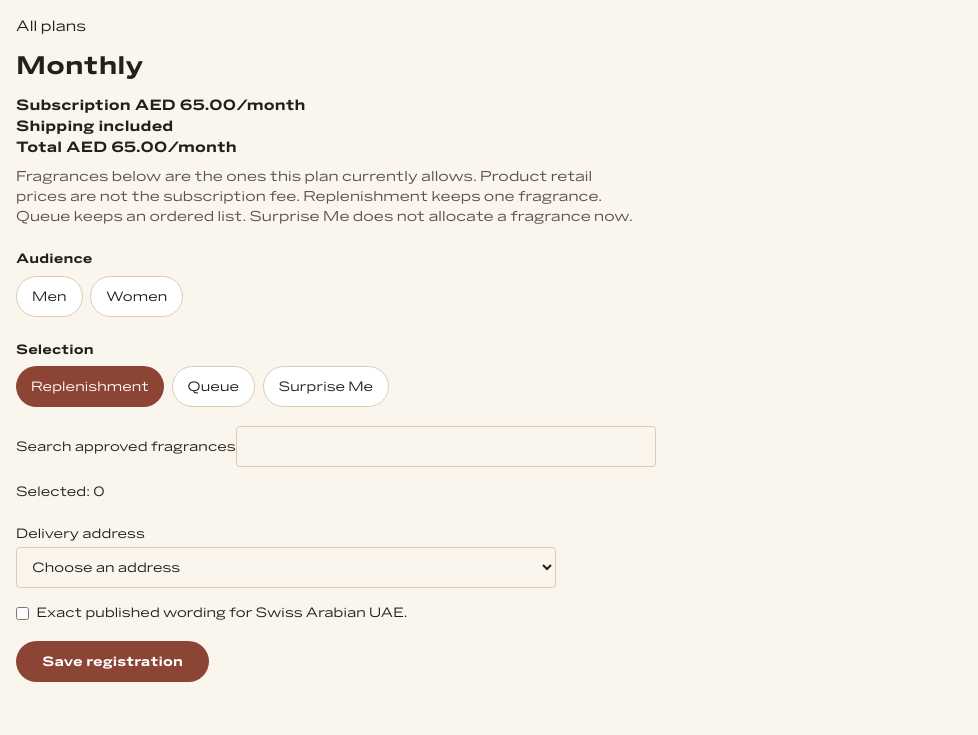
Test: account subscriptions and registration gate › shows the exact published wording and submits that version
Check: the text "Exact published wording for Swiss Arabian UAE." is shown, box [36,603,408,622]
Click the button "Men" at (49, 296), box [16,276,83,317]
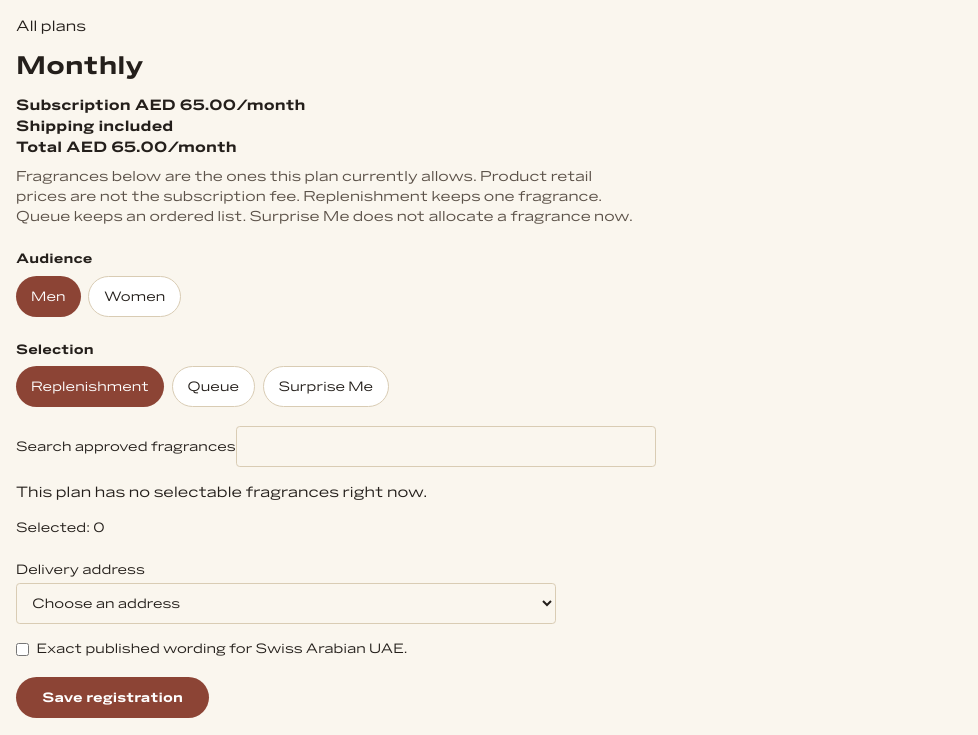
Click the button "Surprise Me" at (326, 387), box [263,366,389,407]
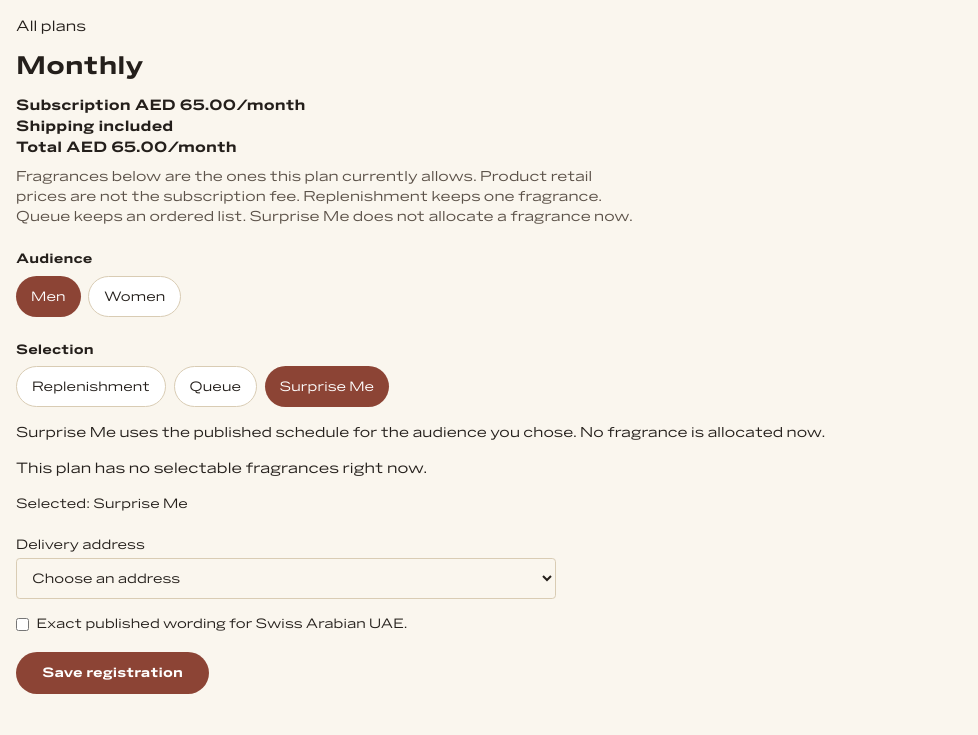
Check: the button "Save registration" is disabled, box [16,652,209,694]
Click the checkbox at (22, 625), box [16,618,29,631]
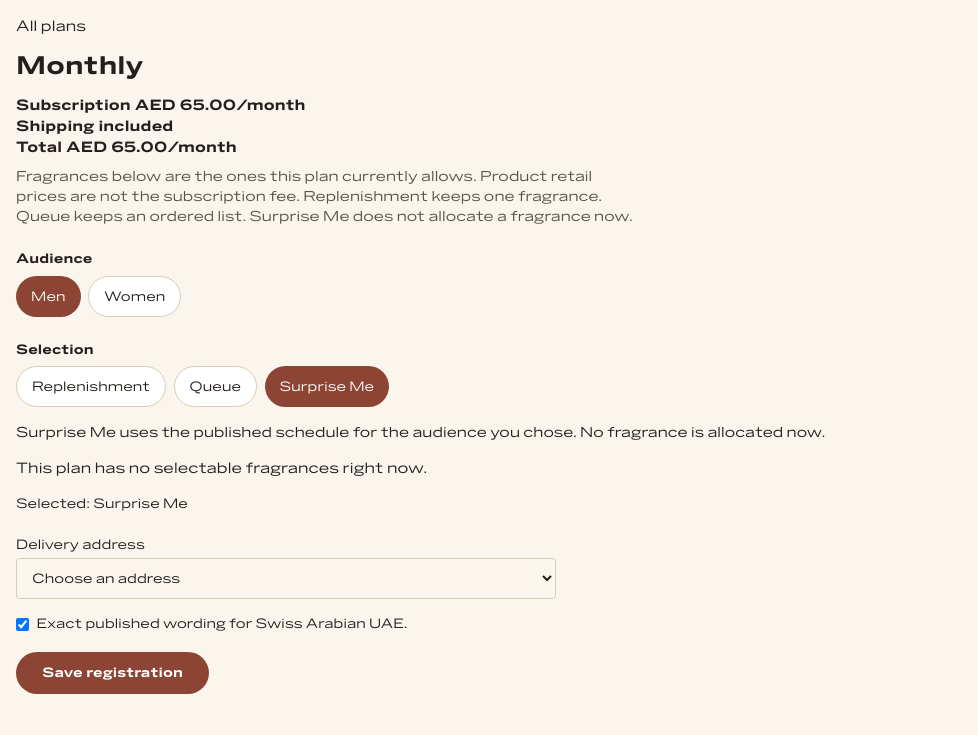
Check: the button "Save registration" is disabled, box [16,652,209,694]
Select "1 Rose Street, Dubai, AE" in the dropdown labelled "Delivery address" at (286, 579), box [16,558,556,600]
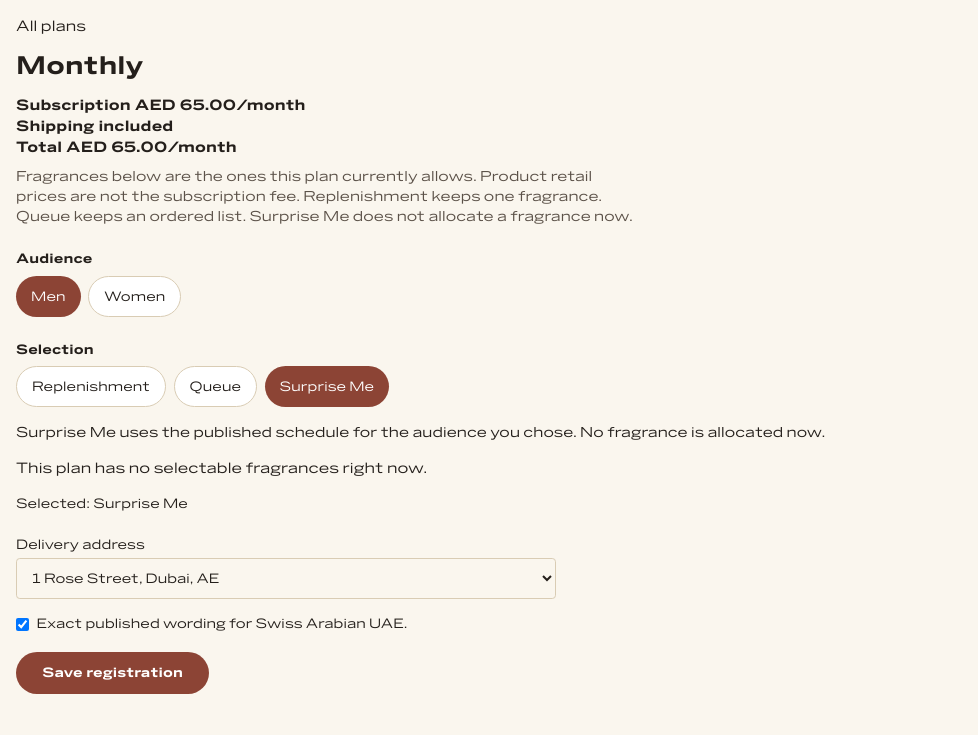
Click the button "Save registration" at (113, 673), box [16,652,209,694]
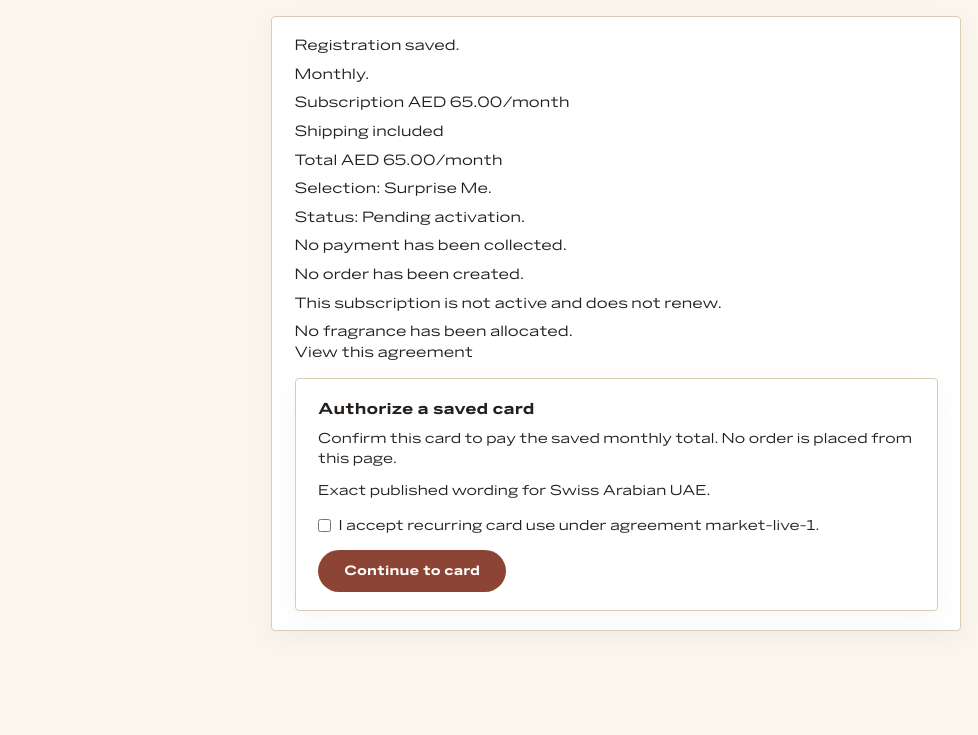
Check: the text "Status: Pending activation." is shown, box [294,209,525,226]
Check: the text "No payment has been collected." is shown, box [294,237,567,254]
Check: the text "No order has been created." is shown, box [294,266,524,283]
